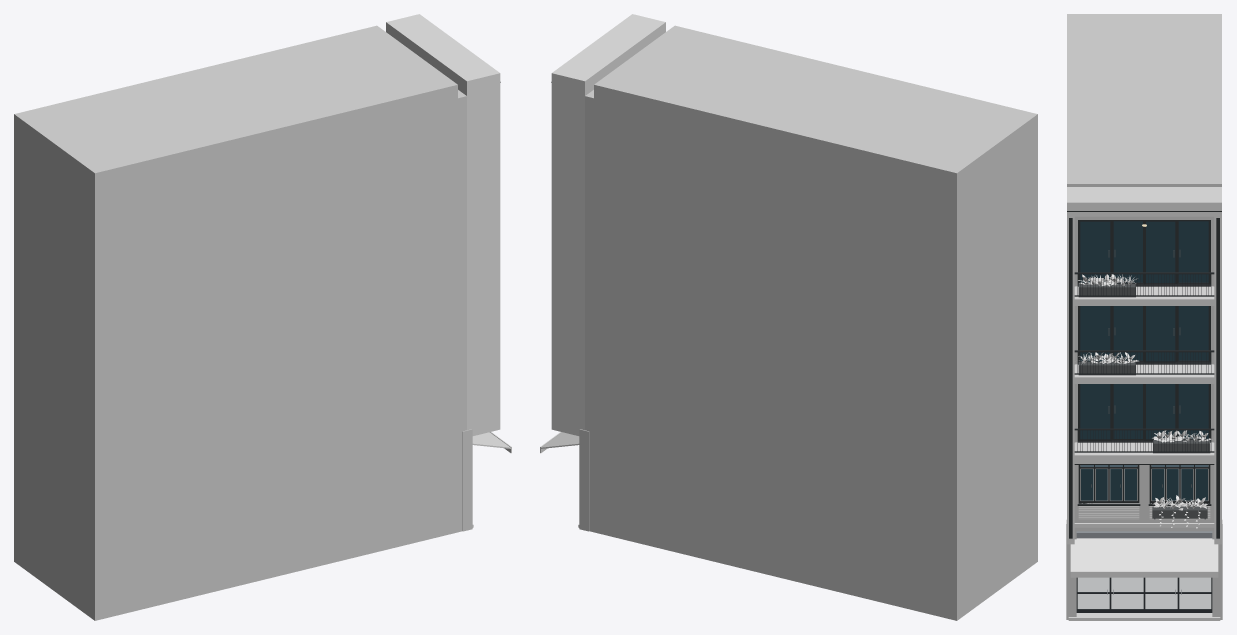
The model's file is OW_Mau_NhaPho_6_0_2.fbx.
3 renders of one model, left to right at view 1: azimuth 30°, elevation 25°; view 2: azimuth 150°, elevation 25°; view 3: azimuth 270°, elevation 25°, orthographic. The views are drawn at different scales.
Visible parts, largest first — view 1: OW_NhaPho_9028; view 2: OW_NhaPho_9028; view 3: OW_NhaPho_9028, OW_MatTienKinh.
Part boxes in pixels (x1=…): OW_NhaPho_9028: x1=14, y1=14, x2=511, y2=620; OW_NhaPho_9028: x1=540, y1=14, x2=1037, y2=620; OW_NhaPho_9028: x1=1066, y1=14, x2=1222, y2=620; OW_MatTienKinh: x1=1076, y1=531, x2=1212, y2=612.
Size of the model in its own units: 17.77 by 18.2 by 6.
